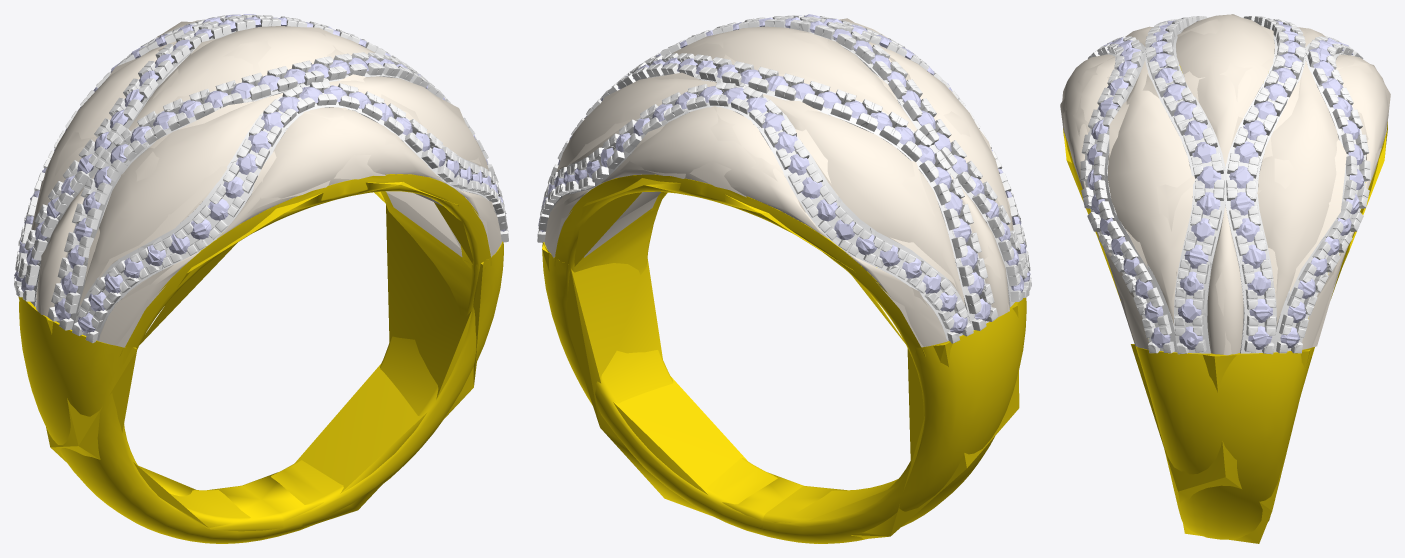
The model's file is DLR-D000677837.glb.
3 views of the same model, side by side, from view 1: azimuth 30°, elevation 25°; view 2: azimuth 150°, elevation 25°; view 3: azimuth 270°, elevation 25° (orthographic). The views are drawn at different scales.
Parts seen in each view (by area): view 1: highPolyMesh, lowPolyMesh; view 2: highPolyMesh, lowPolyMesh; view 3: highPolyMesh, lowPolyMesh.
Boxes of the visible parts, x1,y1,x2,y2 form: highPolyMesh: (14,14,508,543); lowPolyMesh: (14,14,508,534); highPolyMesh: (537,15,1031,543); lowPolyMesh: (537,14,1031,543); highPolyMesh: (1062,14,1388,539); lowPolyMesh: (1060,14,1390,543).
Bounding box in the file's own units: 0.0228 × 0.024 × 0.0148.
